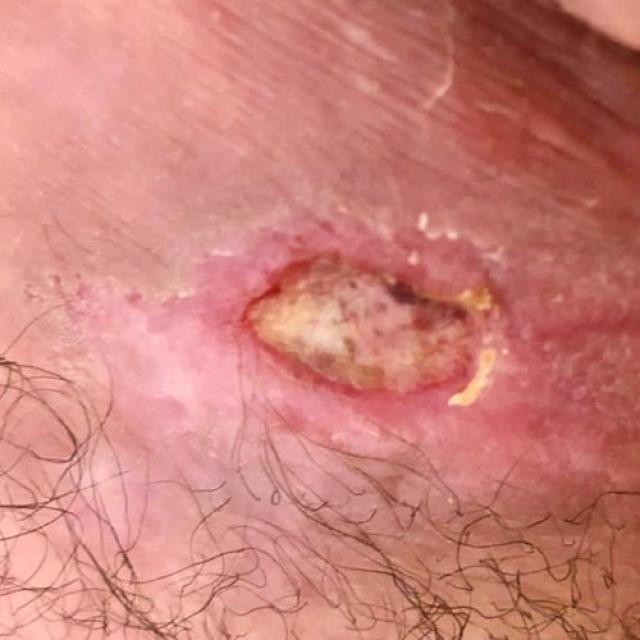stage-3: (245, 260, 481, 392)
